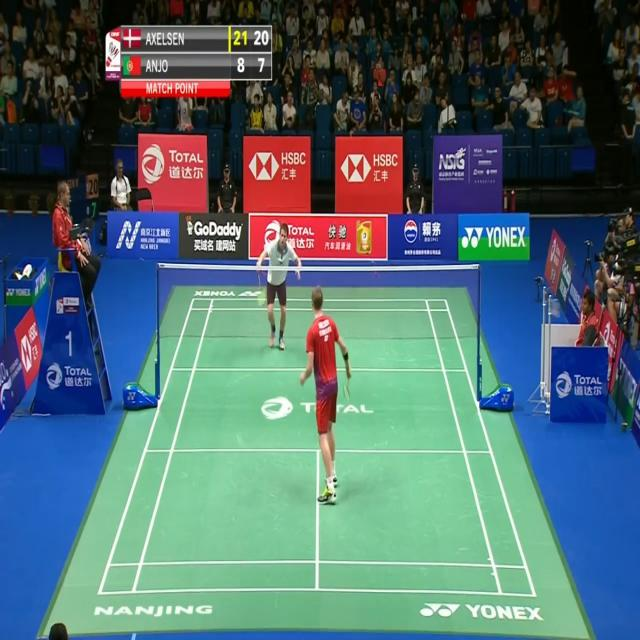Player1: (298, 275, 356, 511)
Player2: (252, 221, 304, 353)
